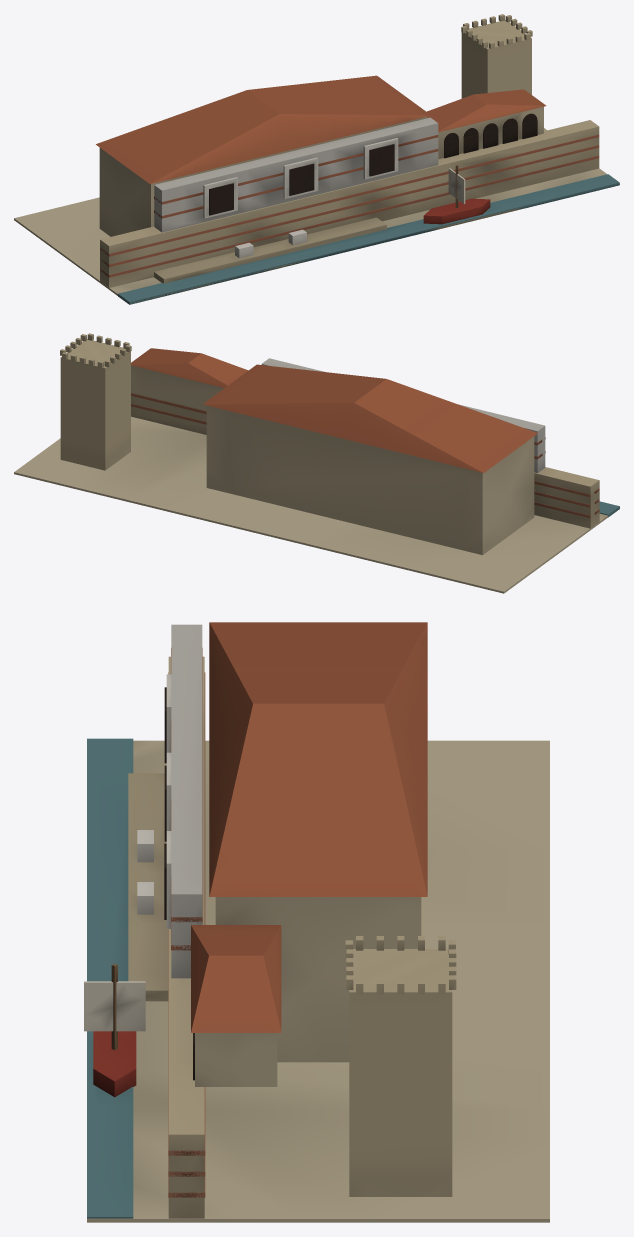
Rendered from boukoleon.glb.
The picture shows the model from 3 angles, top to bottom: view 1: azimuth 30°, elevation 25°; view 2: azimuth 150°, elevation 25°; view 3: azimuth 270°, elevation 25°; orthographic projection. The views are drawn at different scales.
Visible parts, largest first — view 1: p1_palace, p0_sea wall, p2_tower; view 2: p1_palace, p0_sea wall, p2_tower; view 3: p0_sea wall, p1_palace, p2_tower.
Part boxes in pixels (x1,y1,x2,y2): p1_palace: (96, 75, 546, 236); p0_sea wall: (14, 120, 619, 304); p2_tower: (235, 14, 532, 258); p1_palace: (131, 348, 545, 555); p0_sea wall: (14, 392, 619, 593); p2_tower: (60, 333, 131, 470); p0_sea wall: (87, 656, 549, 1222); p1_palace: (164, 622, 427, 1086); p2_tower: (84, 830, 456, 1196).
Size of the model in its own units: 110 by 24.4 by 45.3.
